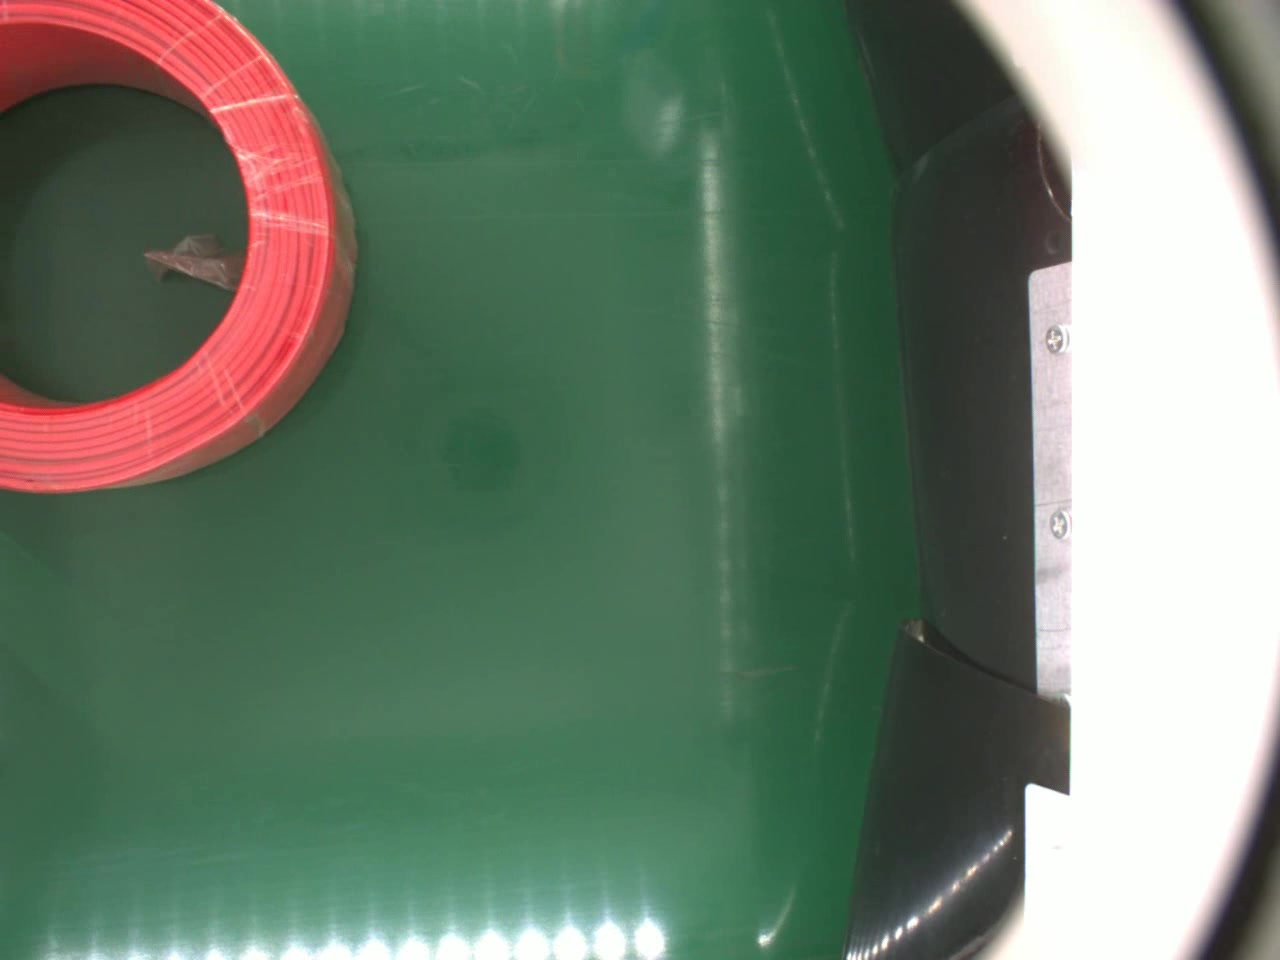red: (0, 0, 359, 499)
